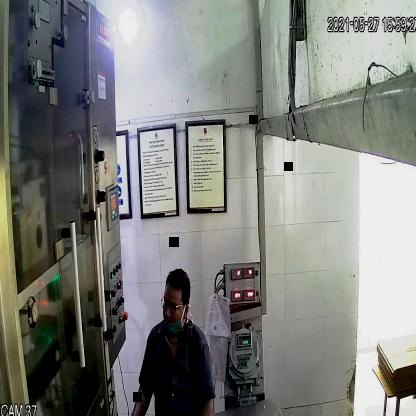goggles: (158, 289, 191, 320)
